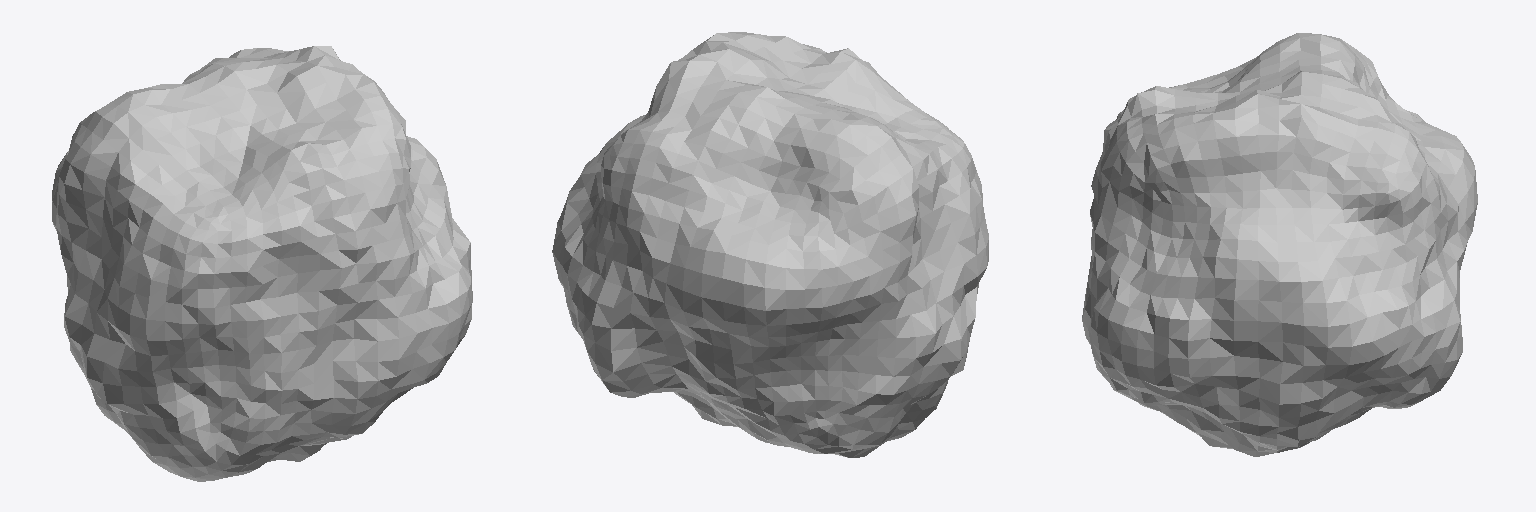
Rendered from stone_a.obj.
3 views of the same model, side by side, from view 1: azimuth 30°, elevation 25°; view 2: azimuth 150°, elevation 25°; view 3: azimuth 270°, elevation 25° (orthographic).
Visible parts, largest first — view 1: Stone_F_1; view 2: Stone_F_1; view 3: Stone_F_1.
Part boxes in pixels (left/top/right/bottom): Stone_F_1: left=52, top=46, right=472, bottom=481; Stone_F_1: left=552, top=32, right=988, bottom=457; Stone_F_1: left=1082, top=33, right=1477, bottom=456.
Bounding box in the file's own units: 192 × 189 × 182.